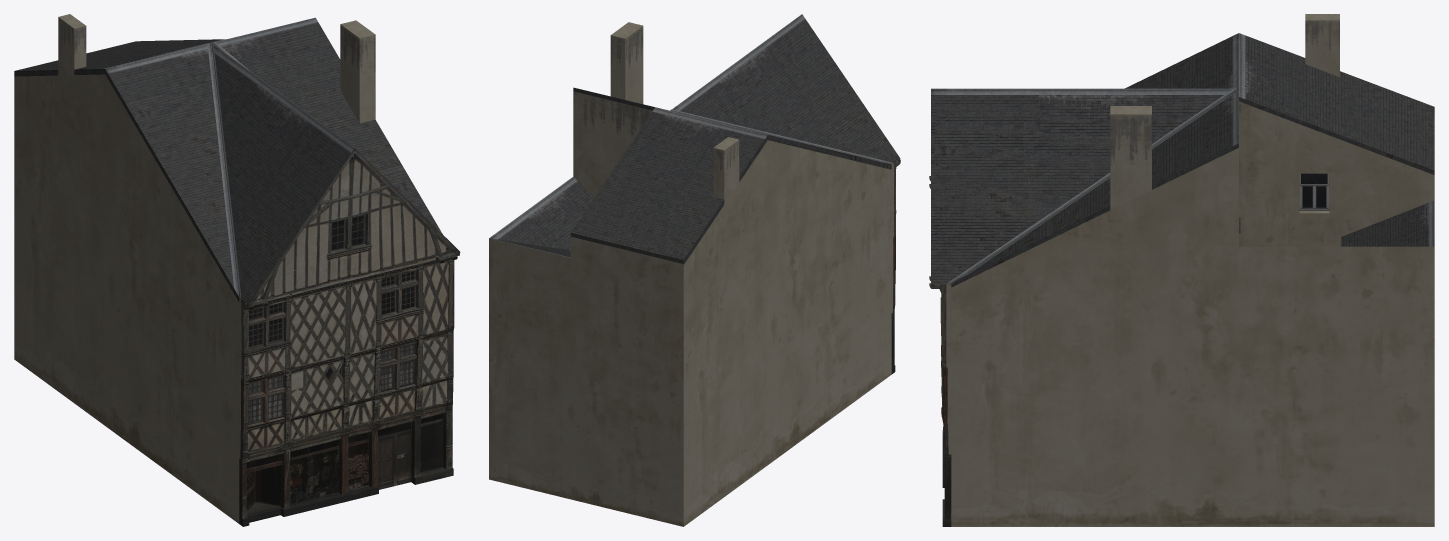
File: workshop.glb
The picture shows the model from 3 angles, left to right: view 1: azimuth 30°, elevation 25°; view 2: azimuth 150°, elevation 25°; view 3: azimuth 270°, elevation 25°; orthographic projection. The views are drawn at different scales.
Visible parts, largest first — view 1: angers 1; view 2: angers 1; view 3: angers 1.
Boxes of the visible parts, left/top/right/bottom form: angers 1: left=14, top=14, right=460, bottom=526; angers 1: left=489, top=14, right=900, bottom=526; angers 1: left=929, top=14, right=1434, bottom=526.
Size of the model in its own units: 4.04 by 6.98 by 7.75.
1 material, 1 textured.
